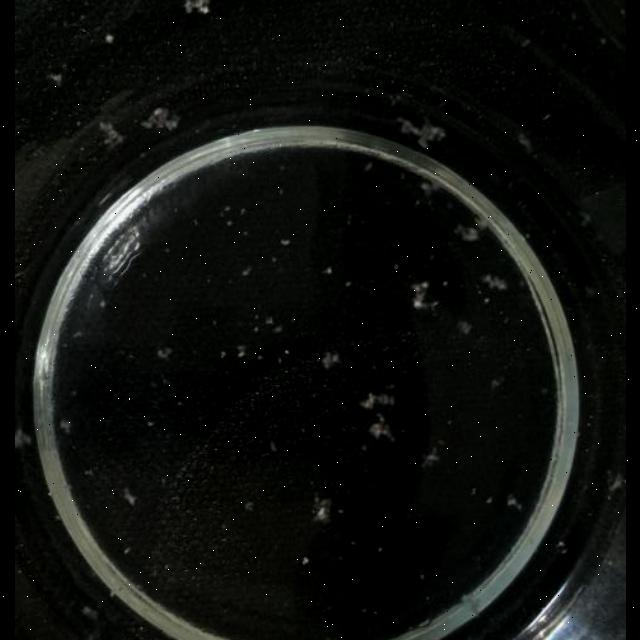Fibre: (400, 115, 444, 149), (141, 106, 179, 132), (410, 280, 438, 312), (96, 120, 124, 148), (368, 415, 394, 441), (362, 391, 394, 412), (310, 498, 332, 524), (454, 222, 482, 242), (482, 273, 508, 293), (421, 445, 442, 469), (183, 1, 210, 16), (321, 350, 341, 370), (608, 470, 626, 492), (506, 493, 522, 511), (122, 486, 136, 506), (457, 319, 473, 335), (58, 418, 72, 434), (156, 348, 172, 360), (234, 346, 246, 358)
